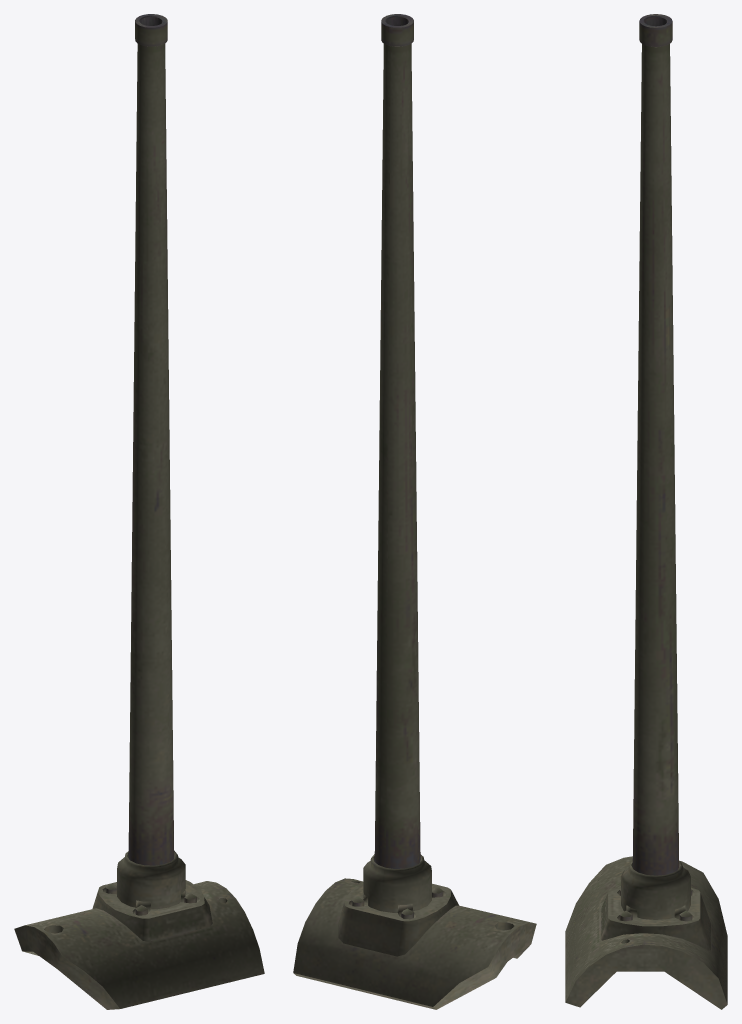
Rendered from Gun_07.glb.
3 views of the same model, side by side, from view 1: azimuth 30°, elevation 25°; view 2: azimuth 150°, elevation 25°; view 3: azimuth 270°, elevation 25° (orthographic).
Visible parts, largest first — view 1: set_0_group_0; view 2: set_0_group_0; view 3: set_0_group_0.
Boxes of the visible parts, x1=… form: set_0_group_0: x1=14, y1=14, x2=264, y2=1009; set_0_group_0: x1=293, y1=14, x2=536, y2=1009; set_0_group_0: x1=565, y1=14, x2=727, y2=1009.
Bounding box in the file's own units: 0.8031 × 3.97 × 0.6119.
Materials: 1 (1 with a texture image).
